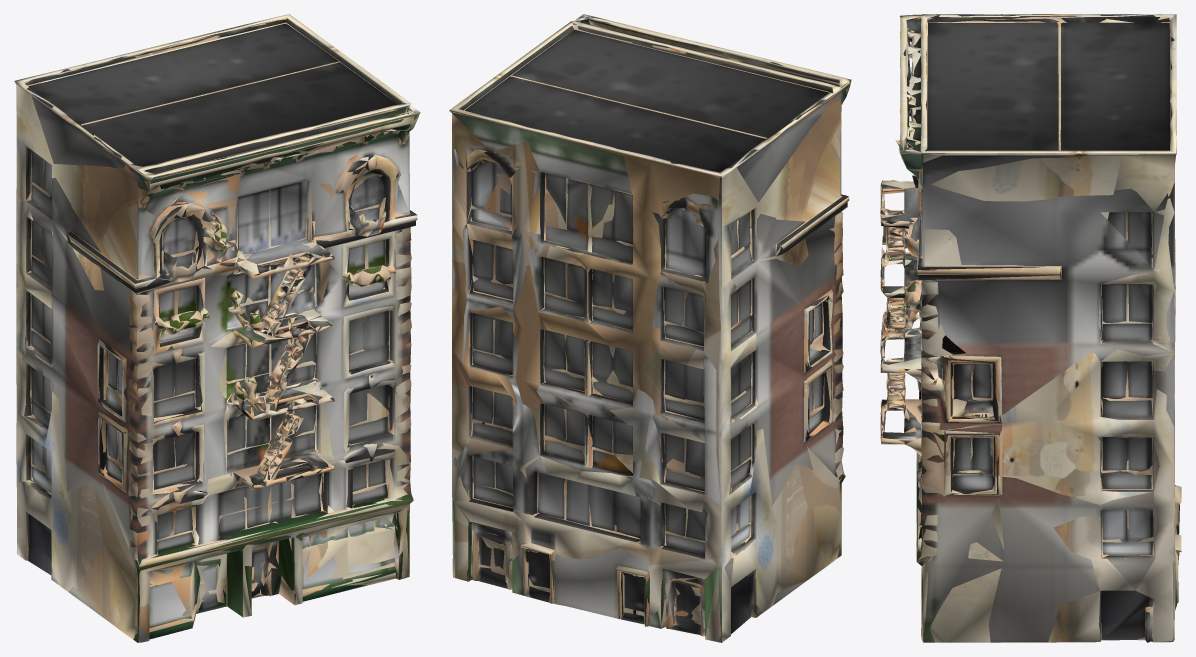
File: bina.fbx
3 renders of one model, left to right at view 1: azimuth 30°, elevation 25°; view 2: azimuth 150°, elevation 25°; view 3: azimuth 270°, elevation 25°, orthographic. The views are drawn at different scales.
Visible parts, largest first — view 1: Mesh_0.001, Mesh_0; view 2: Mesh_0.001, Mesh_0; view 3: Mesh_0.001, Mesh_0.
Part boxes in pixels (x1,y1,x2,y2): Mesh_0.001: (16, 18, 418, 642); Mesh_0: (14, 14, 420, 642); Mesh_0.001: (450, 19, 851, 642); Mesh_0: (449, 14, 850, 642); Mesh_0.001: (880, 14, 1180, 642); Mesh_0: (880, 14, 1181, 642).
Size of the model in its own units: 119 by 191 by 106.
